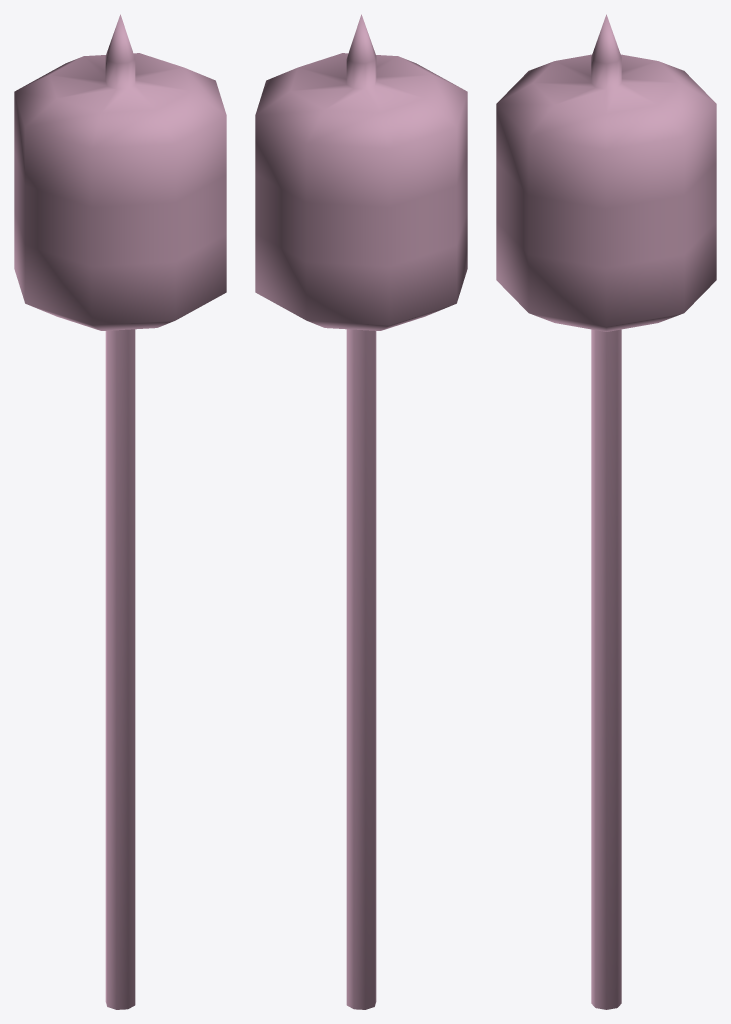
File: Marshmallow Lantern.obj
The picture shows the model from 3 angles, left to right: view 1: azimuth 30°, elevation 25°; view 2: azimuth 150°, elevation 25°; view 3: azimuth 270°, elevation 25°; orthographic projection.
Visible parts, largest first — view 1: Marshmallow_Lantern; view 2: Marshmallow_Lantern; view 3: Marshmallow_Lantern.
Boxes of the visible parts, left/top/right/bottom form: Marshmallow_Lantern: left=14, top=14, right=226, bottom=1009; Marshmallow_Lantern: left=255, top=14, right=467, bottom=1009; Marshmallow_Lantern: left=496, top=14, right=716, bottom=1009.
Size of the model in its own units: 8.43 by 41.83 by 8.43.
